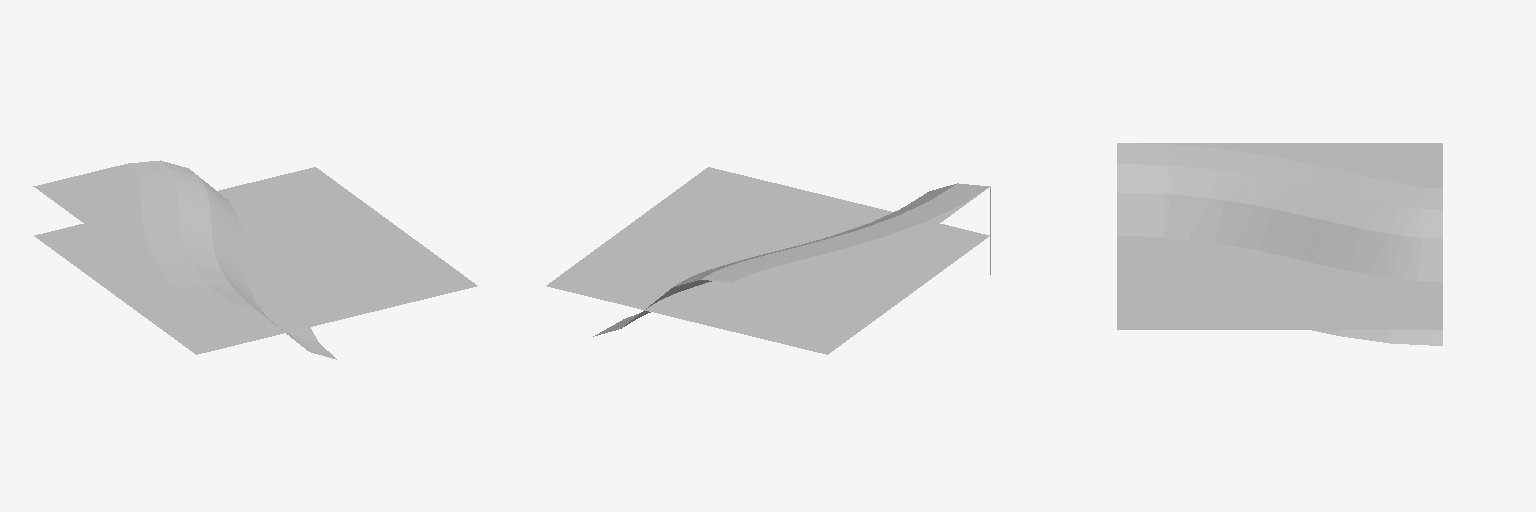
The model's file is Terrain_Water_Esse_2x3.obj.
3 renders of one model, left to right at view 1: azimuth 30°, elevation 25°; view 2: azimuth 150°, elevation 25°; view 3: azimuth 270°, elevation 25°, orthographic.
Visible parts, largest first — view 1: object1, object2; view 2: object1, object2; view 3: object2, object1.
Part boxes in pixels (left/top/right/bottom): object1: left=34, top=167, right=477, bottom=354; object2: left=33, top=160, right=336, bottom=359; object1: left=546, top=167, right=989, bottom=354; object2: left=593, top=183, right=990, bottom=336; object2: left=1117, top=143, right=1442, bottom=345; object1: left=1117, top=236, right=1442, bottom=329.
Size of the model in its own units: 3 by 0.9 by 3.